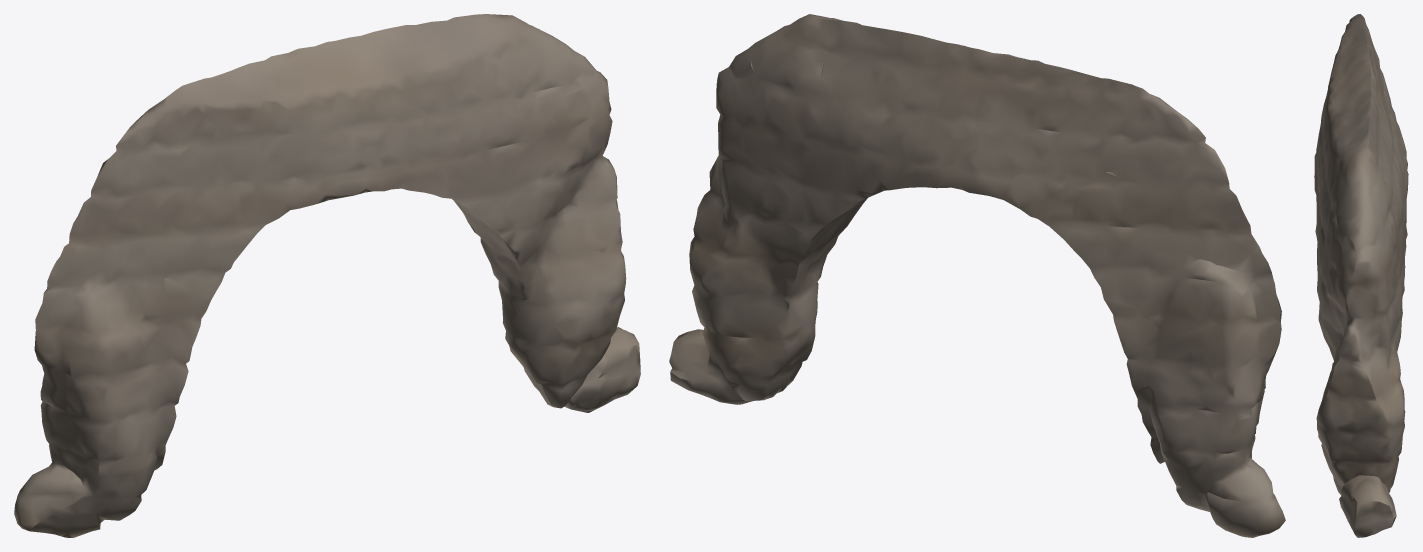
Rendered from rock_arch_cave.glb.
3 views of the same model, side by side, from view 1: azimuth 30°, elevation 25°; view 2: azimuth 150°, elevation 25°; view 3: azimuth 270°, elevation 25° (orthographic). The views are drawn at different scales.
Parts seen in each view (by area): view 1: rock_arch_cave; view 2: rock_arch_cave; view 3: rock_arch_cave.
Part boxes in pixels (x1=…): rock_arch_cave: x1=14, y1=14, x2=640, y2=537; rock_arch_cave: x1=669, y1=14, x2=1285, y2=537; rock_arch_cave: x1=1314, y1=14, x2=1408, y2=537.
Bounding box in the file's own units: 4.5 × 3.01 × 0.72.
